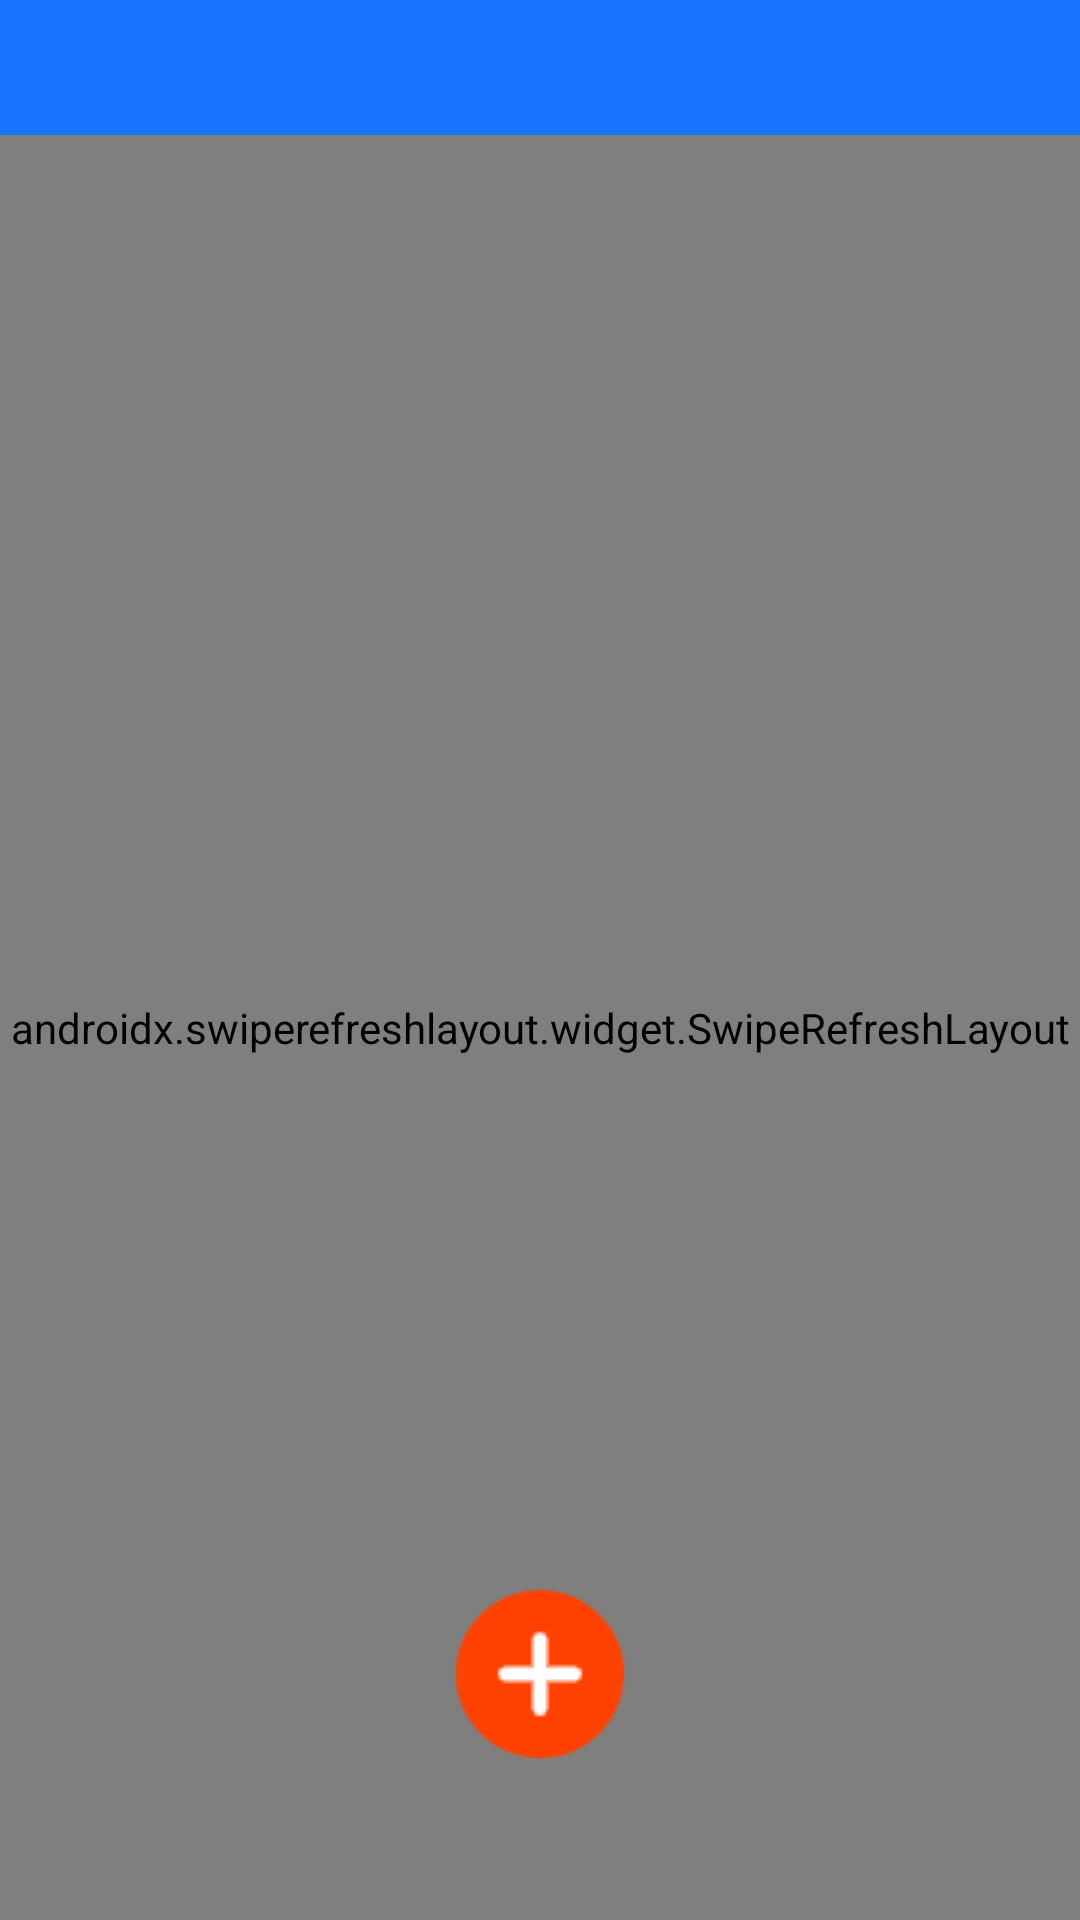

Screen size 1080 x 1920. Icon name, then its center in pixels as point (x, y):
add: point (540, 1674)
